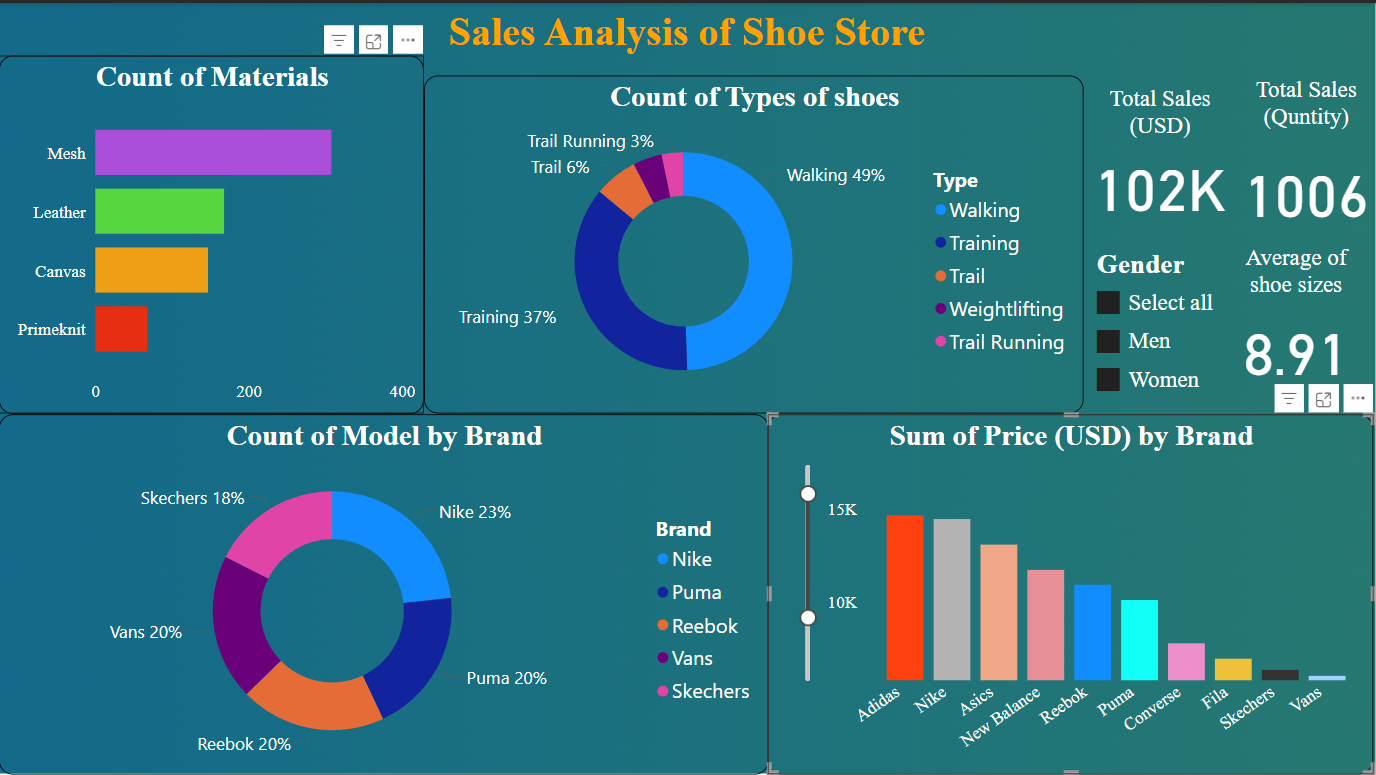

The dashboard page shown, as its layout file describes it:
{"tool":"powerbi","page":{"name":"Page 1","canvas":[1280,720],"ordinal":0},"visuals":[{"type":"columnChart","fields":{"Category":["Shoe prices.Brand"],"Y":["Sum(Shoe prices.Price (USD))"]},"box":[715.7,382.3,563.4,334.9],"z":0},{"type":"card","title":"Average of shoe sizes","fields":{"Values":["Avg(Shoe prices.Size)"]},"box":[1134.1,224.1,145.4,148.4],"z":1000},{"type":"slicer","fields":{"Values":["Shoe prices.Gender"]},"box":[1008.5,224.1,143.8,151.4],"z":2000},{"type":"donutChart","title":"Count of Types of shoes","fields":{"Category":["Shoe prices.Type"],"Y":["CountNonNull(Shoe prices.Gender)"]},"box":[395.2,67.5,613.7,314.7],"z":3000},{"type":"barChart","title":"Count of Materials","fields":{"Category":["Shoe prices.Material"],"Y":["CountNonNull(Shoe prices.Material)"]},"box":[0,48.9,395.2,333.4],"z":4000},{"type":"textbox","box":[0,0,1279.5,63.6],"z":5000},{"type":"card","title":"Total Sales (USD)","fields":{"Values":["Sum(Shoe prices.Price (USD))"]},"box":[1008.5,77.2,143.8,137.8],"z":6000},{"type":"donutChart","fields":{"Category":["Shoe prices.Brand"],"Y":["CountNonNull(Shoe prices.Model)"]},"box":[0,382.3,715.7,334.9],"z":7000},{"type":"card","title":"Total Sales (Quntity)","fields":{"Values":["CountNonNull(Shoe prices.Brand)"]},"box":[1152.3,68.1,127.2,165],"z":8000}]}

Visuals, with their boxes in screenshot pixels (x1, y1, x2, y2), scaled from the page's 1280x720 canvas onto the 1376x775 screenshot:
columnChart - Shoe prices.Brand x Sum(Shoe prices.Price (USD)): Rect(769, 412, 1375, 772)
"Average of shoe sizes" card: Rect(1219, 241, 1375, 401)
slicer - Shoe prices.Gender: Rect(1084, 241, 1239, 404)
"Count of Types of shoes" donutChart: Rect(425, 73, 1085, 411)
"Count of Materials" barChart: Rect(0, 53, 425, 412)
textbox: Rect(0, 0, 1375, 68)
"Total Sales (USD)" card: Rect(1084, 83, 1239, 231)
donutChart - Shoe prices.Brand x CountNonNull(Shoe prices.Model): Rect(0, 412, 769, 772)
"Total Sales (Quntity)" card: Rect(1239, 73, 1375, 251)
